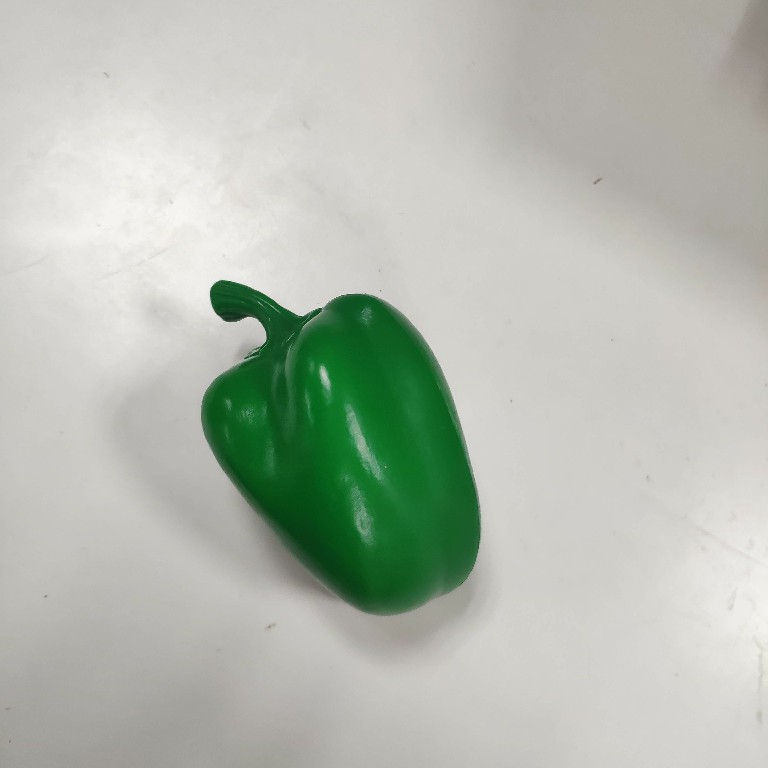fruit_pepper: (194, 278, 485, 623)
